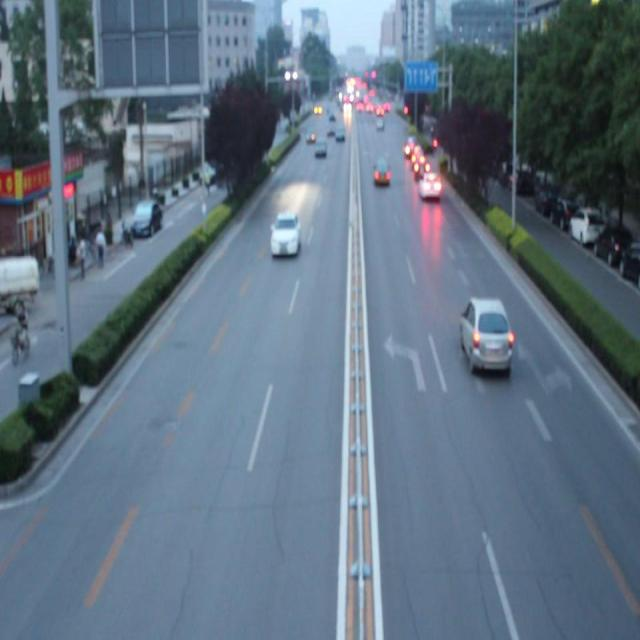car: (460, 293, 511, 370), (271, 210, 299, 258), (418, 171, 441, 200)
